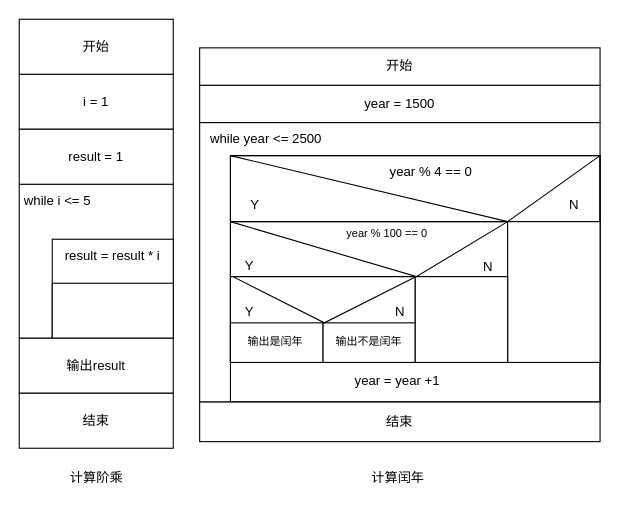
Image size: 620x510. Some labels were removed from this diagram. The shapes that lost their labels are listed below. From the top down, each one's box as (x1, y1, x2, y2) in pixels, then its label:
(51, 282, 173, 338): i = i + 1
(232, 276, 416, 323): year % 400 == 0
(507, 221, 600, 362): 输出year不是闰年
(414, 276, 508, 362): 输出year是闰年
